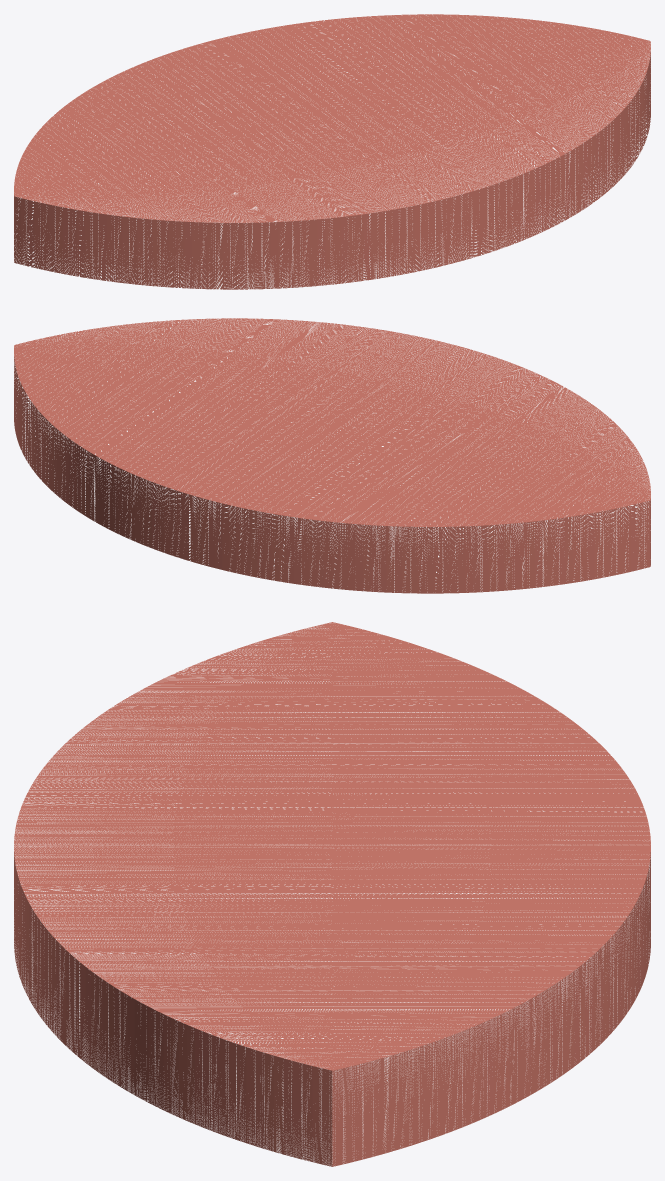
File: biscuit.gltf
The picture shows the model from 3 angles, top to bottom: view 1: azimuth 30°, elevation 25°; view 2: azimuth 150°, elevation 25°; view 3: azimuth 270°, elevation 25°; orthographic projection. The views are drawn at different scales.
Visible parts, largest first — view 1: biscuit; view 2: biscuit; view 3: biscuit.
Part boxes in pixels (bbox=[...]): biscuit: bbox=[14, 14, 650, 289]; biscuit: bbox=[14, 318, 650, 593]; biscuit: bbox=[14, 622, 650, 1166].
Bounding box in the file's own units: 0.05 × 0.005 × 0.03.
